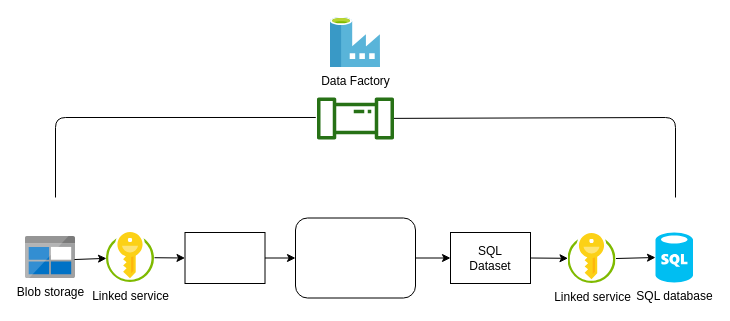
Image size: 730x321. Some labels were removed from this diagram. The shapes that lost their labels are listed below. From the top down, each one's box as (x1, y1, x2, y2) in pixels, then its label:
(316, 97, 394, 139): Pipeline
(184, 232, 265, 284): Blob Dataset
(294, 217, 416, 298): Copy Data Activity
